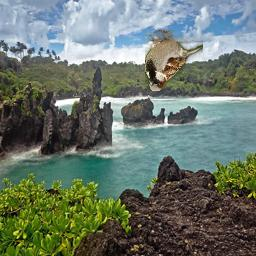Sparrow: (145, 30, 203, 91)
